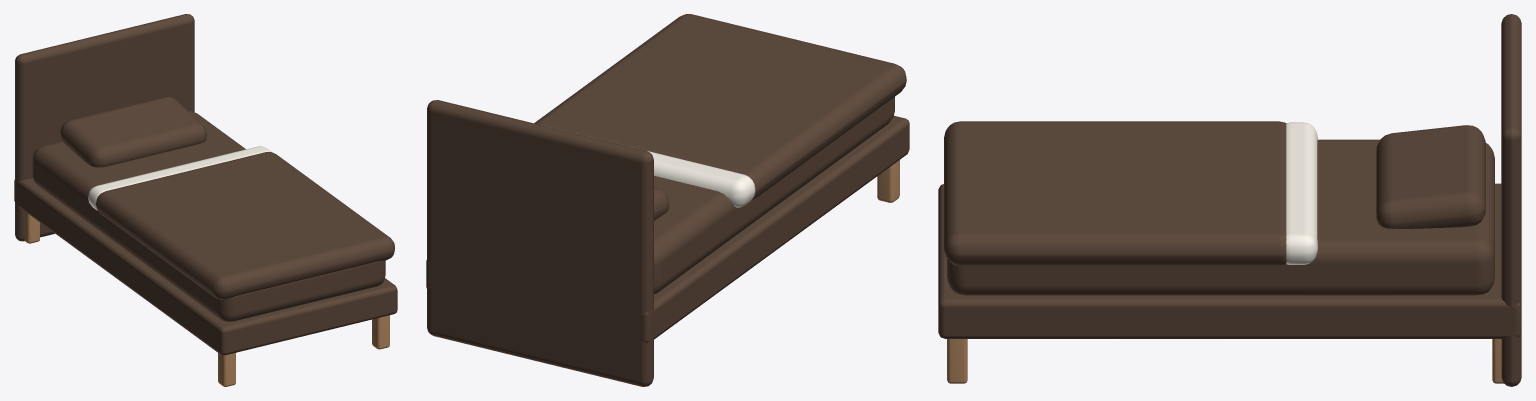
The model's file is bed.glb.
3 renders of one model, left to right at view 1: azimuth 30°, elevation 25°; view 2: azimuth 150°, elevation 25°; view 3: azimuth 270°, elevation 25°, orthographic. The views are drawn at different scales.
Parts seen in each view (by area): view 1: bed; view 2: bed; view 3: bed.
Boxes of the visible parts, x1=… form: bed: x1=14, y1=14, x2=397, y2=386; bed: x1=426, y1=14, x2=909, y2=386; bed: x1=938, y1=14, x2=1521, y2=386.
Size of the model in its own units: 0.9789 by 0.9588 by 1.96.
